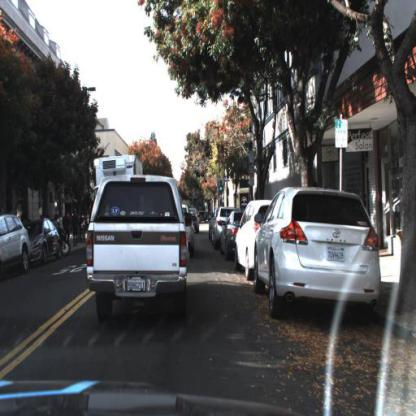biker: (55, 218, 76, 258)
car: (247, 178, 385, 329), (80, 170, 200, 332), (234, 199, 272, 281), (1, 211, 35, 281), (25, 216, 64, 261), (180, 194, 202, 261), (31, 218, 59, 267), (222, 211, 239, 266), (192, 208, 201, 233)
trafficLight-Green: (218, 179, 226, 196)
